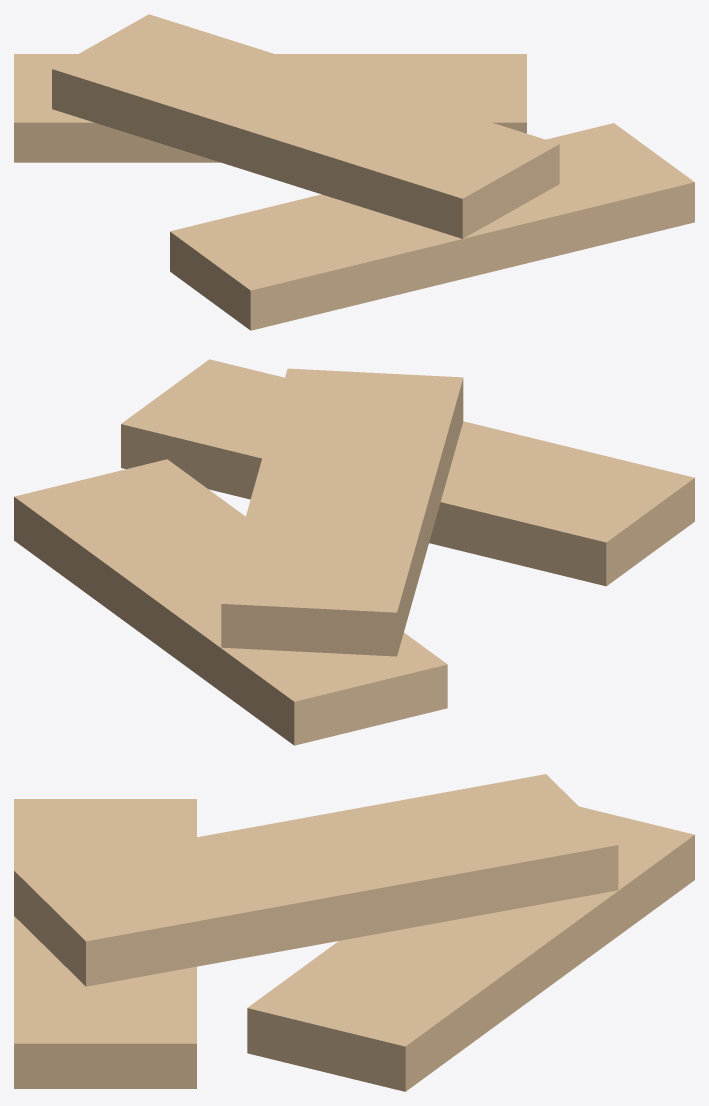
Rendered from debrisWood.glb.
The picture shows the model from 3 angles, top to bottom: view 1: azimuth 30°, elevation 25°; view 2: azimuth 150°, elevation 25°; view 3: azimuth 270°, elevation 25°; orthographic projection. The views are drawn at different scales.
Parts seen in each view (by area): view 1: debrisWood(Clone); view 2: debrisWood(Clone); view 3: debrisWood(Clone).
Boxes of the visible parts, <box> form: debrisWood(Clone): <box>14,14,694,330</box>; debrisWood(Clone): <box>14,359,694,745</box>; debrisWood(Clone): <box>14,774,694,1091</box>.
Bounding box in the file's own units: 0.4669 × 0.0787 × 0.5364.
